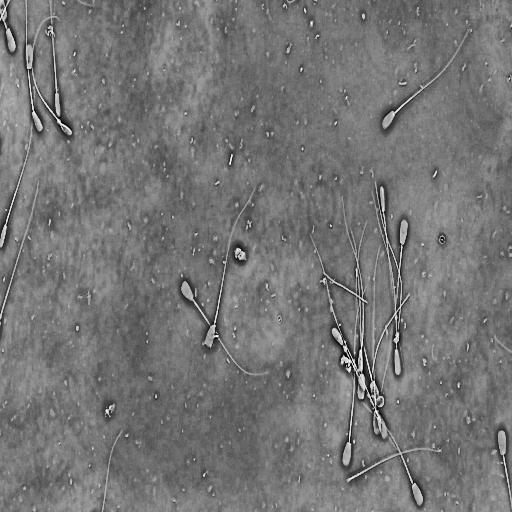dirt-particles: (339, 342, 353, 376), (234, 245, 248, 264)
loose-head: (24, 40, 34, 73)
loose-tail: (0, 178, 41, 313), (373, 174, 404, 332), (343, 444, 444, 487), (371, 289, 412, 378), (101, 427, 125, 512), (320, 268, 370, 305)
normal: (380, 19, 477, 133), (326, 288, 389, 442), (203, 179, 259, 350), (180, 278, 270, 378), (356, 384, 425, 509), (0, 73, 40, 250), (370, 188, 403, 378), (31, 12, 74, 138), (341, 281, 369, 468), (381, 217, 409, 389), (340, 194, 365, 371), (23, 1, 45, 135), (48, 0, 62, 120), (497, 427, 512, 508), (379, 184, 392, 275)
